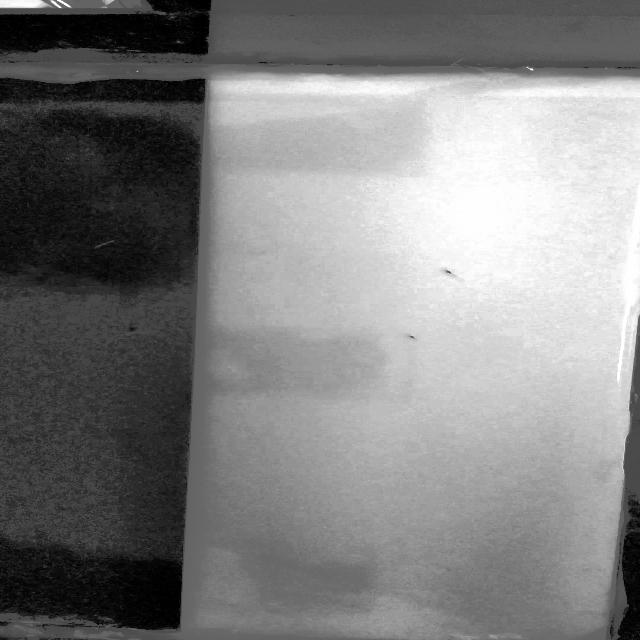shrimp: (396, 332, 432, 344), (436, 266, 460, 281)
